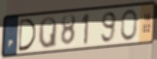1: (81, 12, 90, 46)
8: (60, 14, 77, 49)
9: (100, 10, 118, 43)
D: (18, 18, 38, 53)
O: (120, 8, 138, 42)
Q: (38, 16, 58, 50)
